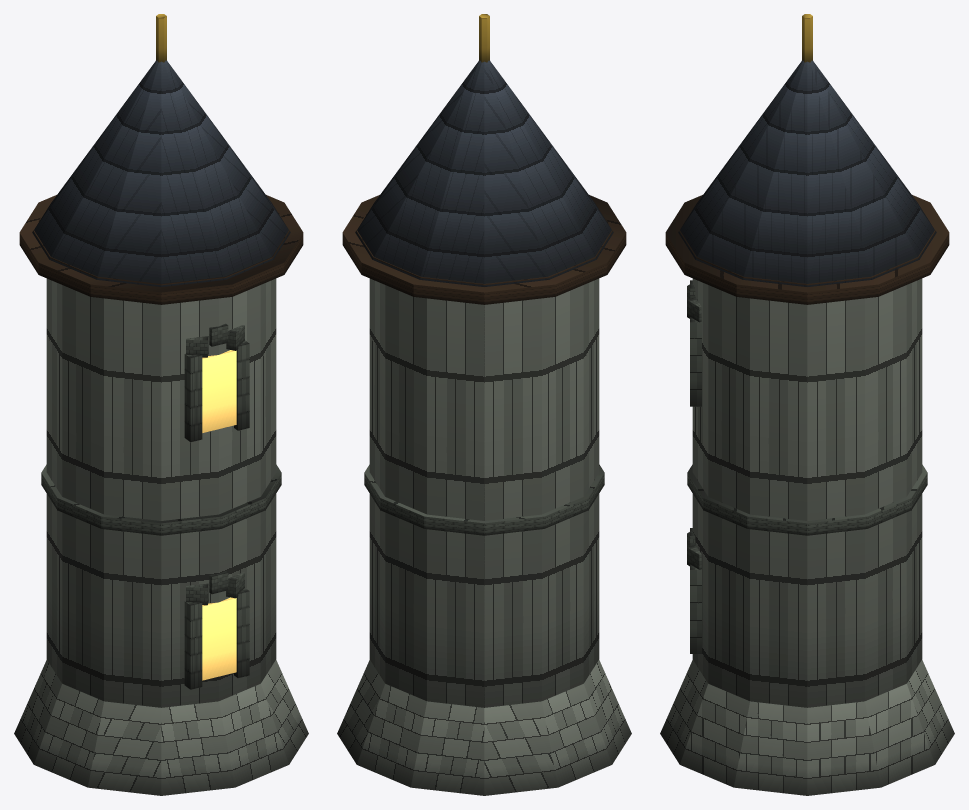
The model's file is tower_spire.gltf.
3 views of the same model, side by side, from view 1: azimuth 30°, elevation 25°; view 2: azimuth 150°, elevation 25°; view 3: azimuth 270°, elevation 25° (orthographic).
Parts seen in each view (by area): view 1: tower_spire; view 2: tower_spire; view 3: tower_spire.
Part boxes in pixels (x1,y1,x2,y2): tower_spire: (14,14,308,795); tower_spire: (337,14,631,795); tower_spire: (660,14,954,795).
Bounding box in the file's own units: 1.08 × 2.9 × 1.08.
Materials: 1 (1 with a texture image).
